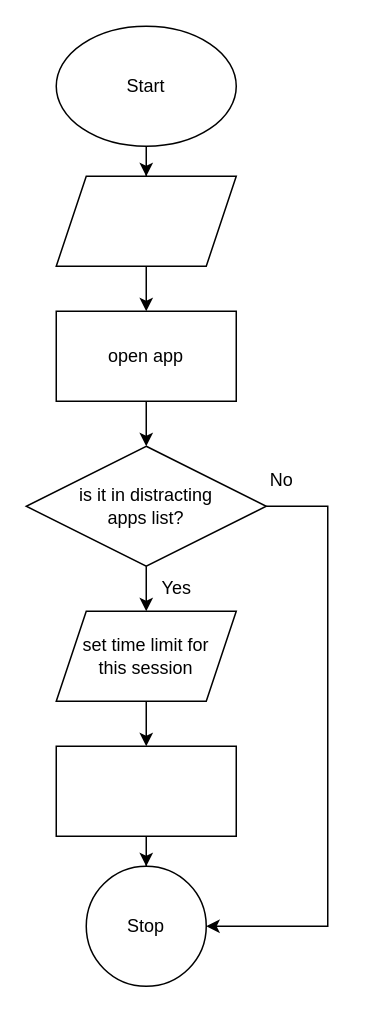
Some shapes in this 366 by 1013 pixel diagram are drawn without their labels. Here are the shapes that lost their labels. From the top down, the centre of each, then its label:
At (145,220): "input list of distracting apps".
At (145,790): "after limit reached, block the app for 20 minutes".
